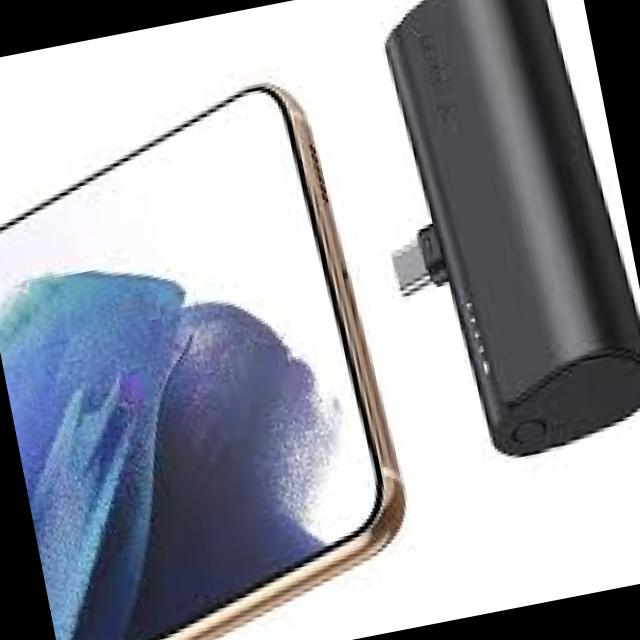power_bank: (329, 0, 640, 481)
